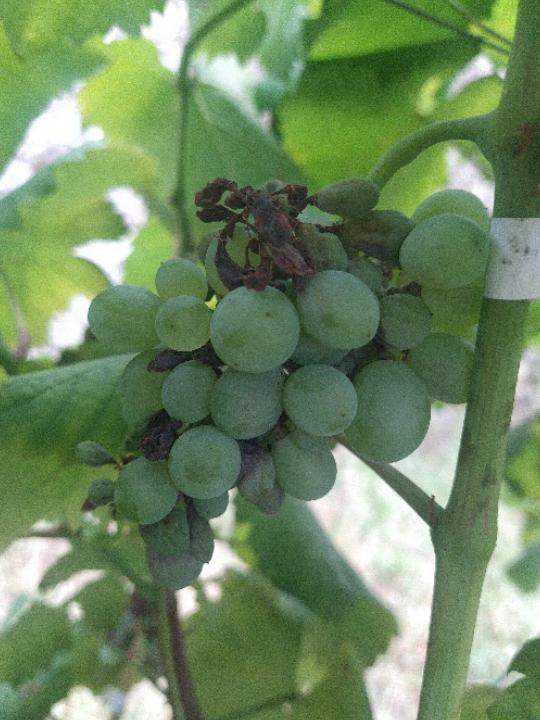grape: (70, 173, 494, 598)
